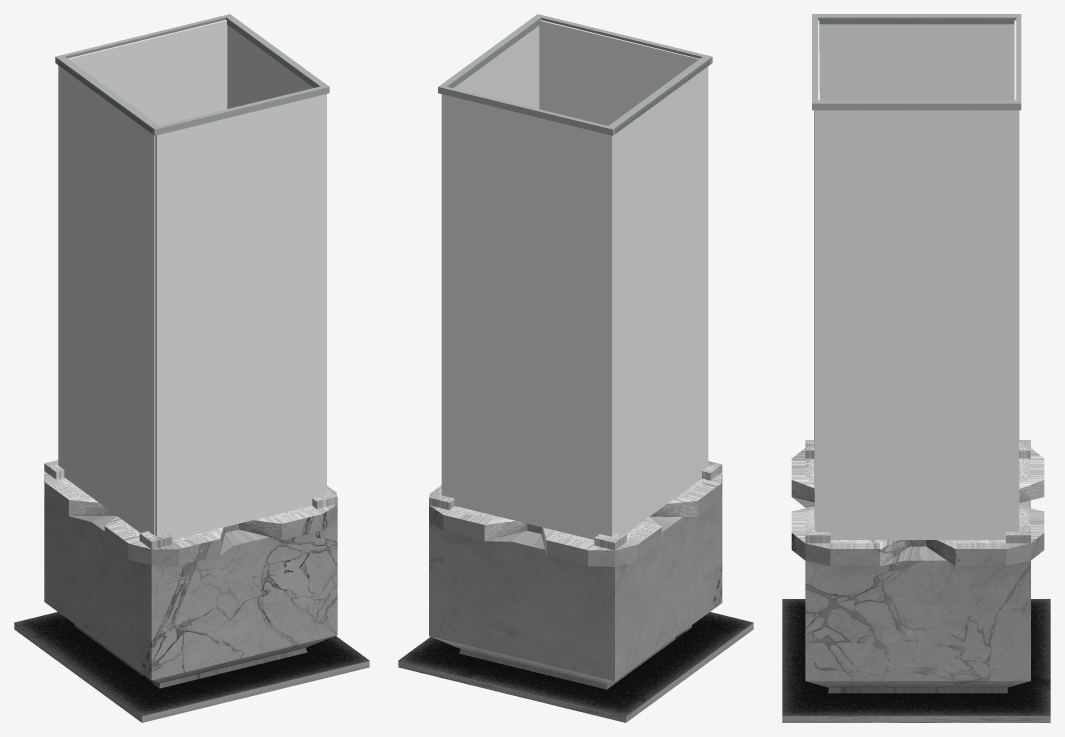
File: hologram box riza fix.gltf
3 renders of one model, left to right at view 1: azimuth 30°, elevation 25°; view 2: azimuth 150°, elevation 25°; view 3: azimuth 270°, elevation 25°, orthographic. The views are drawn at different scales.
Visible parts, largest first — view 1: glass, Cube, Cube.003, Cube.004; view 2: glass, Cube, Cube.003, Cube.004; view 3: glass, Cube, Cube.003, Cube.004.
Boxes of the visible parts, <box> form: glass: <box>58,20,326,539</box>; Cube: <box>44,460,337,688</box>; Cube.003: <box>14,612,369,722</box>; Cube.004: <box>55,14,329,135</box>; glass: <box>441,20,708,539</box>; Cube: <box>429,461,722,689</box>; Cube.003: <box>398,612,753,722</box>; Cube.004: <box>438,14,712,135</box>; glass: <box>814,20,1019,539</box>; Cube: <box>791,440,1044,693</box>; Cube.003: <box>782,599,1050,722</box>; Cube.004: <box>812,14,1021,110</box>.
Bounding box in the file's own units: 2.45 × 5.93 × 2.38.
Materials: 3 (2 with a texture image).
